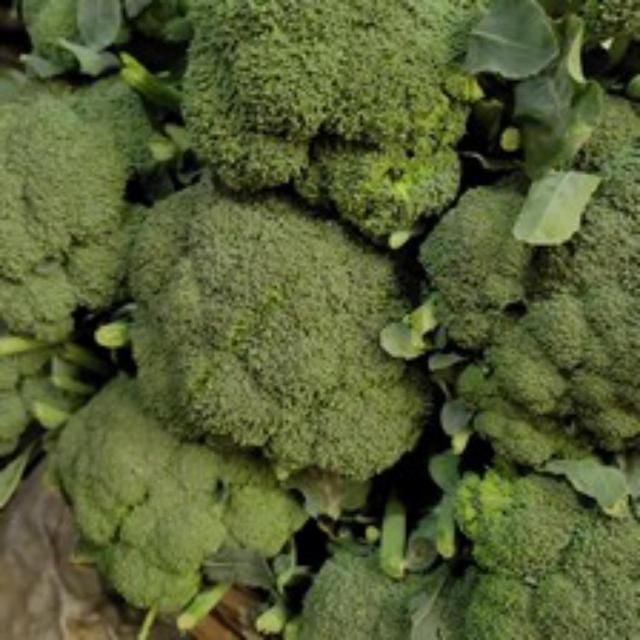broccoli: (121, 163, 438, 499)
